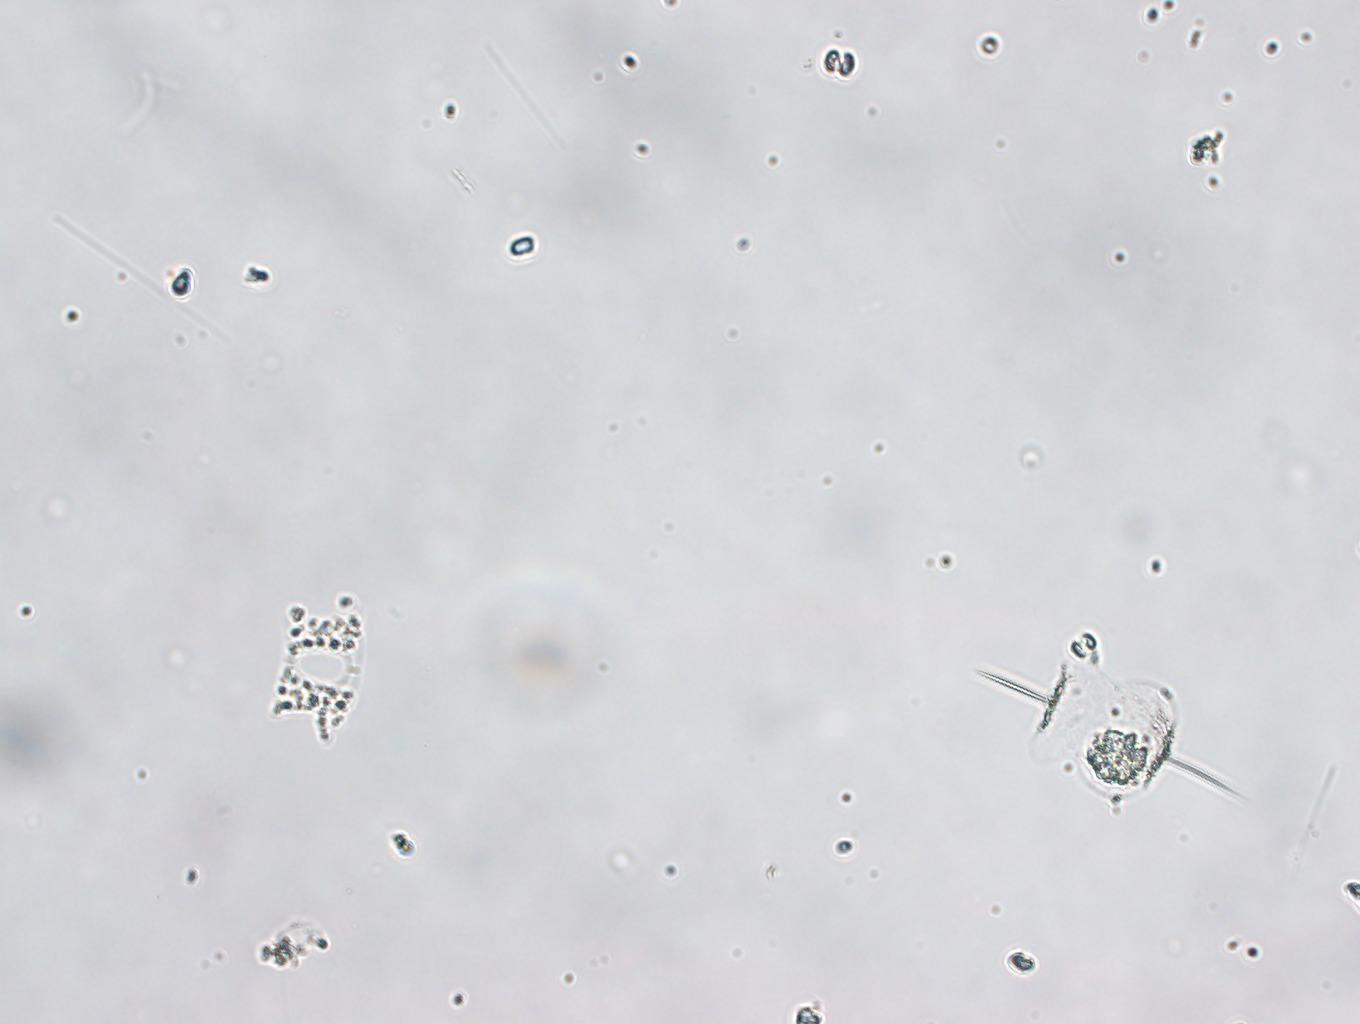ditylum: (961, 632, 1248, 819)
eucampia: (260, 578, 369, 744)
